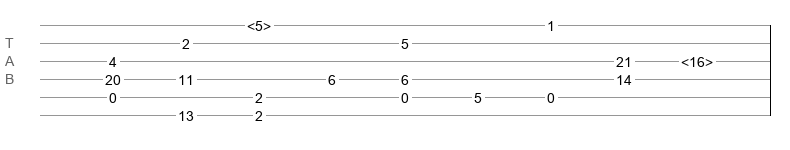0: (109, 90, 117, 100), (401, 90, 409, 100), (547, 90, 555, 100)
1: (547, 18, 555, 28)
11: (178, 72, 194, 82)
13: (178, 108, 194, 118)
14: (616, 72, 632, 82)
2: (182, 36, 190, 46), (255, 90, 263, 100), (255, 108, 263, 118)
20: (105, 72, 121, 82)
21: (616, 54, 632, 64)
4: (109, 54, 117, 64)
5: (401, 36, 409, 46), (474, 90, 482, 100)
6: (328, 72, 336, 82), (401, 72, 409, 82)
harmonic: (681, 54, 713, 64), (247, 18, 271, 28)
